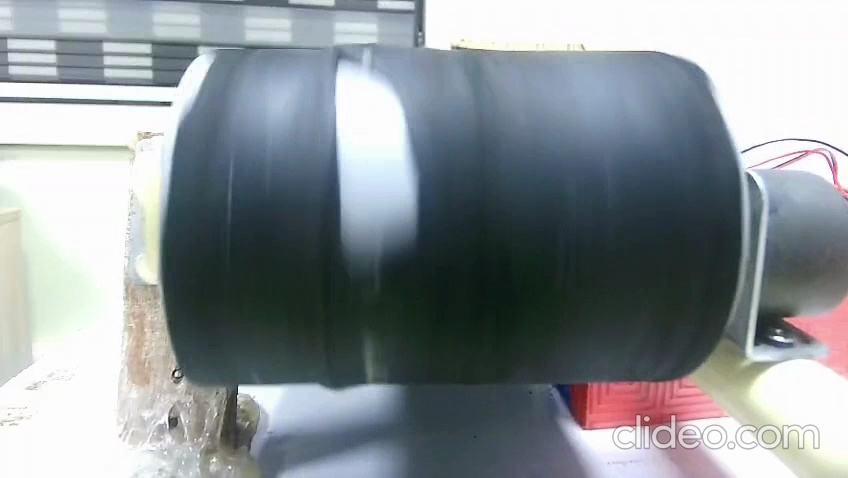hole: (332, 44, 428, 269)
